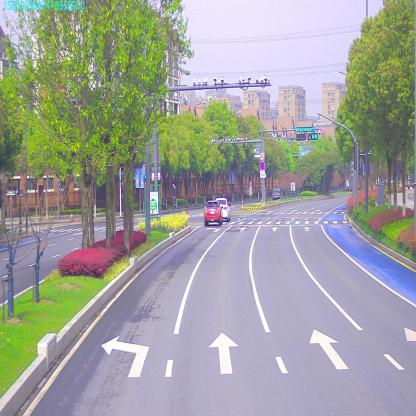traffic-light: (294, 127, 314, 132), (308, 134, 318, 141), (296, 134, 305, 140)
